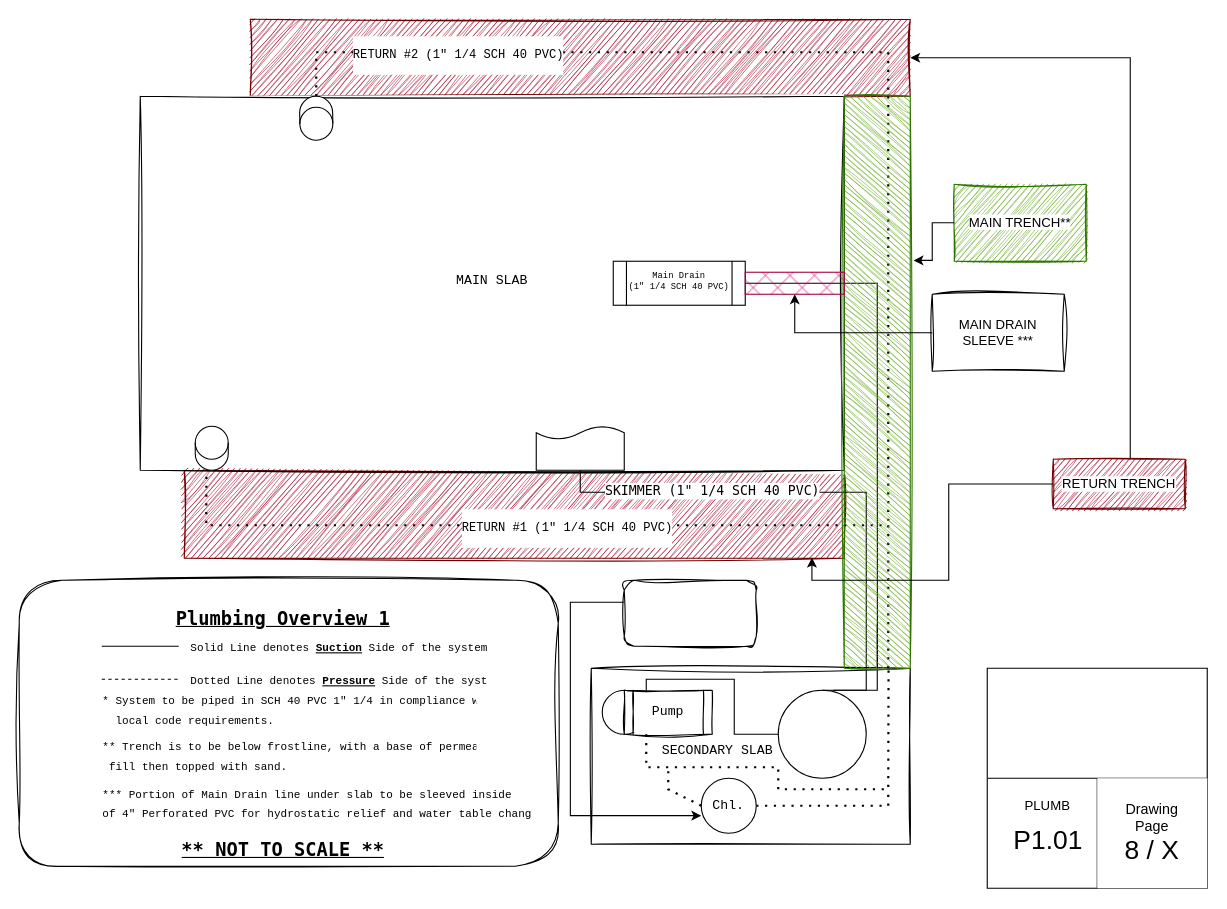
Some shapes in this 1227 by 909 pixel diagram are drawn without their labels. Here are the shapes that lost their labels. From the top down, the box of each, then its label:
(623, 579, 756, 646): Chlorine Feeder (Erosion Type)
(777, 689, 866, 778): Sand Filter
(986, 667, 1207, 888): CMU POOL Cruz Wootten 17575 Parrot Drive Reno, Nevada 775.501.4398
